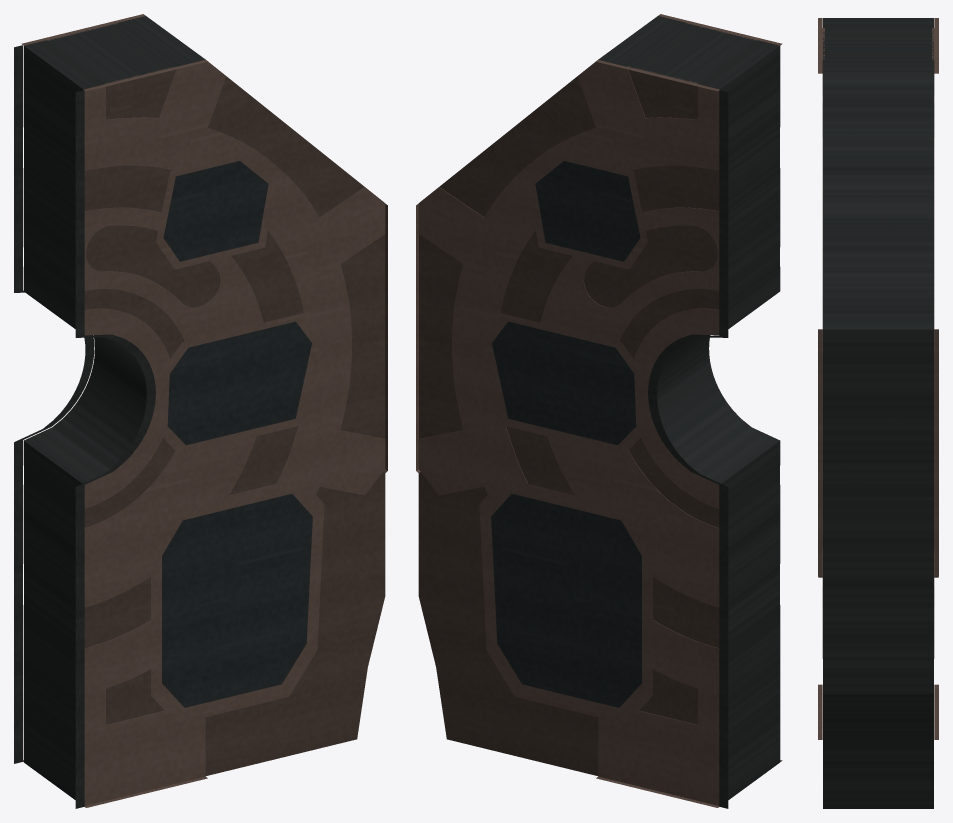
The model's file is destiny_shuttle_door_right.obj.
The picture shows the model from 3 angles, left to right: view 1: azimuth 30°, elevation 25°; view 2: azimuth 150°, elevation 25°; view 3: azimuth 270°, elevation 25°; orthographic projection. The views are drawn at different scales.
Visible parts, largest first — view 1: Original_hatch_right; view 2: Original_hatch_right; view 3: Original_hatch_right.
Part boxes in pixels (<box>): Original_hatch_right: <box>14,14,387,808</box>; Original_hatch_right: <box>416,14,782,808</box>; Original_hatch_right: <box>818,18,938,808</box>.
Bounding box in the file's own units: 1.45 × 3.2 × 0.5266.
